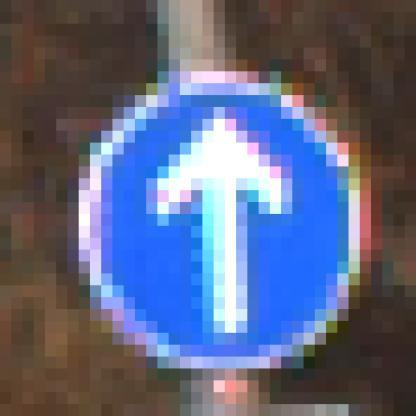straight: (67, 60, 371, 380)
